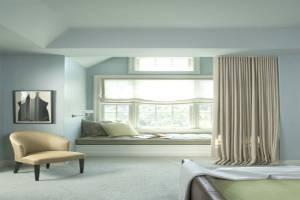window: (94, 74, 216, 132)
